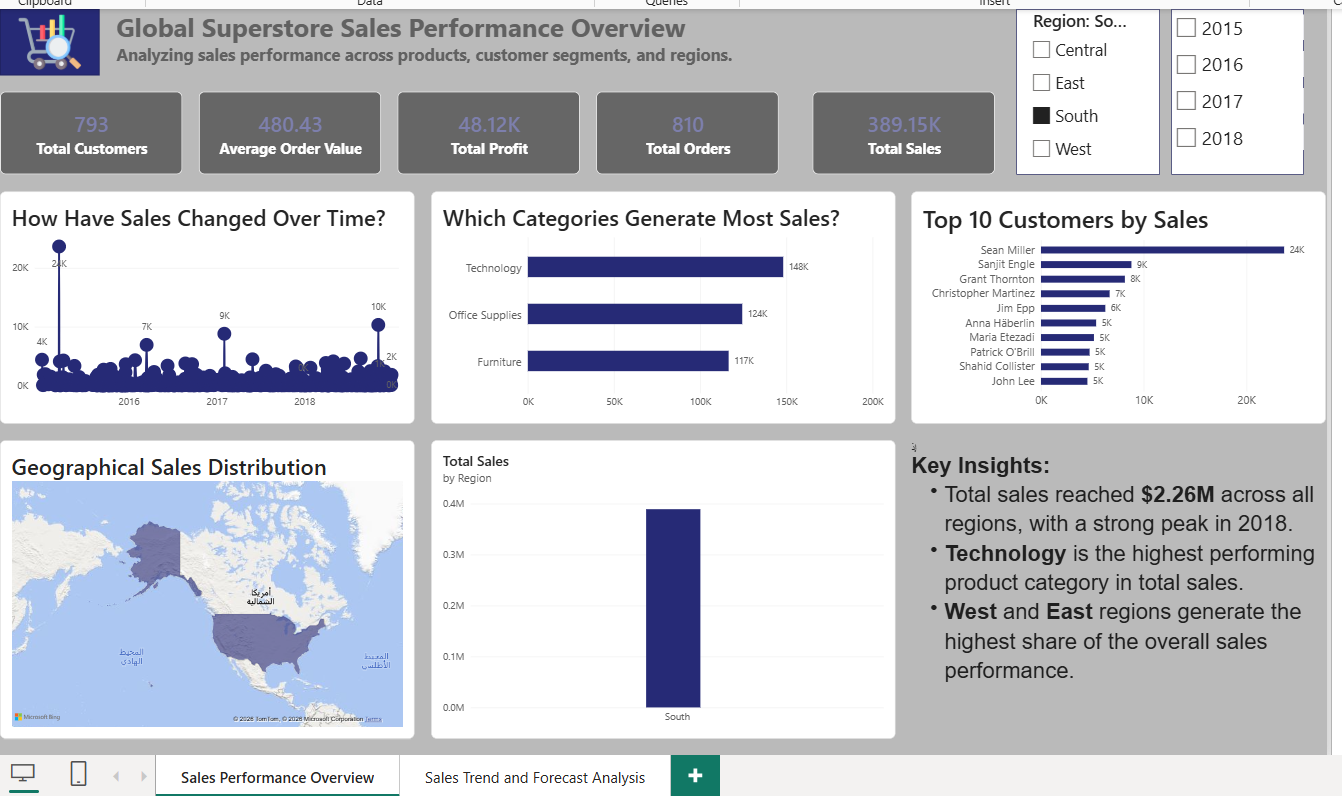

This screenshot's page, from the dashboard's own definition file:
{"tool":"powerbi","page":{"name":"Sales Performance Overview","canvas":[1920,1080],"ordinal":0},"visuals":[{"type":"textbox","box":[168,0,960,168],"z":0},{"type":"shape","box":[0,0,144,96],"z":1000},{"type":"image","box":[0,0,144,96],"z":2000},{"type":"cardVisual","fields":{"Data":["superstore_enhanced.Total Customers"]},"box":[0,120,264,120],"z":3000},{"type":"cardVisual","fields":{"Data":["superstore_enhanced.Total Sales"]},"box":[1176,120,264,120],"z":4000},{"type":"cardVisual","fields":{"Data":["superstore_enhanced.Average Order Value"]},"box":[288,120,264,120],"z":5000},{"type":"cardVisual","fields":{"Data":["superstore_enhanced.Total Orders"]},"box":[864,120,264,120],"z":6000},{"type":"cardVisual","fields":{"Data":["superstore_enhanced.Total Profit"]},"box":[576,120,264,120],"z":7000},{"type":"shape","box":[1696,0,192,240],"z":8000},{"type":"shape","box":[1472,0,208,240],"z":9000},{"type":"slicer","fields":{"Values":["superstore_enhanced.Region"]},"box":[1488,0,168,240],"z":10000},{"type":"slicer","fields":{"Values":["superstore_enhanced.Order Year"]},"box":[1696,0,192,240],"z":11000},{"type":"lineChart","title":"How Have Sales Changed Over Time?","fields":{"Category":["Dim_Date.Order Date.Variation.Date Hierarchy.Year"],"Y":["superstore_enhanced.Total Sales"]},"box":[0,264,600,336],"z":12000},{"type":"clusteredBarChart","title":"Which Categories Generate Most Sales?","fields":{"Category":["superstore_enhanced.Category"],"Y":["superstore_enhanced.Total Sales"]},"box":[624,264,672,336],"z":13000},{"type":"filledMap","title":"Geographical Sales Distribution","fields":{"Category":["superstore_enhanced.Country"]},"box":[0,624,600,432],"z":14000},{"type":"columnChart","fields":{"Category":["superstore_enhanced.Region"],"Y":["superstore_enhanced.Total Sales"]},"box":[624,624,672,432],"z":14001},{"type":"clusteredBarChart","title":"Top 10 Customers by Sales","fields":{"Category":["superstore_enhanced.Customer Name"],"Y":["superstore_enhanced.Total Sales"]},"box":[1320,264,600,336],"z":14002},{"type":"textbox","box":[1320,624,600,432],"z":14003}]}

Visuals, with their boxes on the page's 1920x1080 design canvas (x1, y1, x2, y2). These are canvas units, not pixel positions in the 1342x796 screenshot, which may show the page scaled, cropped or inside an application window:
textbox: (168,0,1128,168)
shape: (0,0,144,96)
image: (0,0,144,96)
cardVisual - superstore_enhanced.Total Customers: (0,120,264,240)
cardVisual - superstore_enhanced.Total Sales: (1176,120,1440,240)
cardVisual - superstore_enhanced.Average Order Value: (288,120,552,240)
cardVisual - superstore_enhanced.Total Orders: (864,120,1128,240)
cardVisual - superstore_enhanced.Total Profit: (576,120,840,240)
shape: (1696,0,1888,240)
shape: (1472,0,1680,240)
slicer - superstore_enhanced.Region: (1488,0,1656,240)
slicer - superstore_enhanced.Order Year: (1696,0,1888,240)
"How Have Sales Changed Over Time?" lineChart: (0,264,600,600)
"Which Categories Generate Most Sales?" clusteredBarChart: (624,264,1296,600)
"Geographical Sales Distribution" filledMap: (0,624,600,1056)
columnChart - superstore_enhanced.Region x superstore_enhanced.Total Sales: (624,624,1296,1056)
"Top 10 Customers by Sales" clusteredBarChart: (1320,264,1920,600)
textbox: (1320,624,1920,1056)
